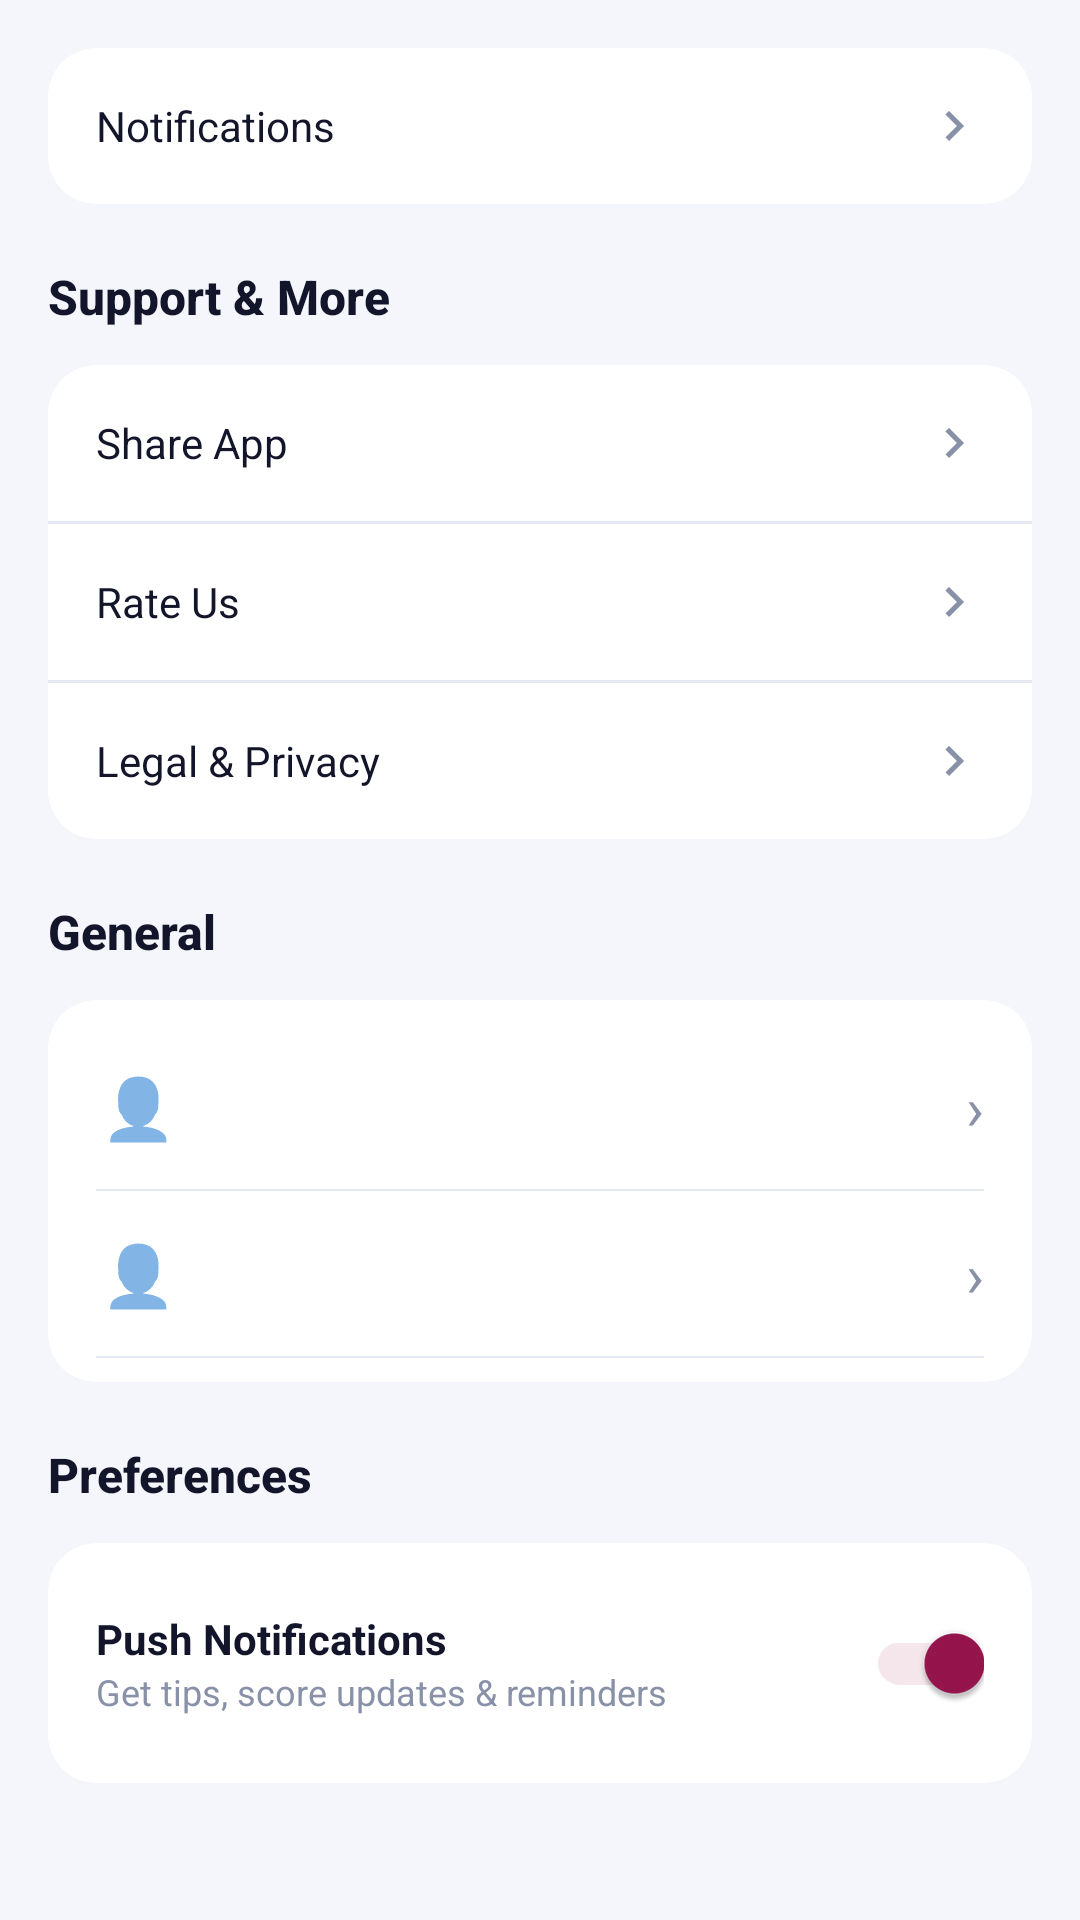

Icons on this 1080x1920 Android screen, each with the point to tap as [x,y]:
chevron right: [954,126], [954,443], [954,602], [954,761]
